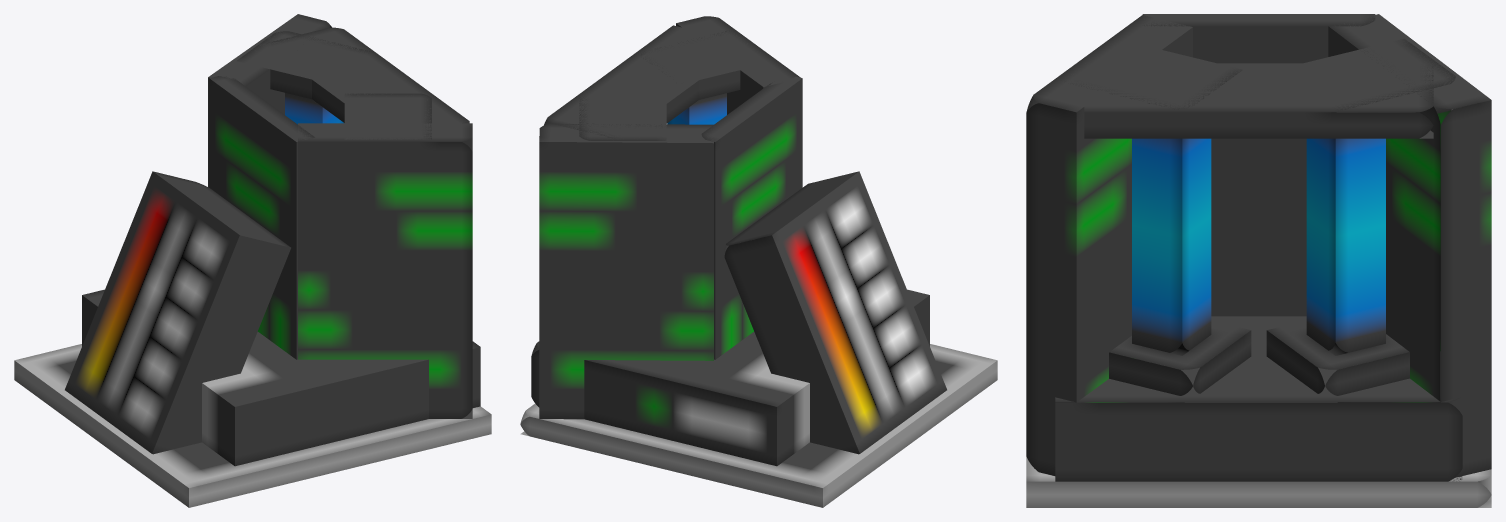
Rendered from nuclear_boiler.obj.
3 renders of one model, left to right at view 1: azimuth 30°, elevation 25°; view 2: azimuth 150°, elevation 25°; view 3: azimuth 270°, elevation 25°, orthographic. The views are drawn at different scales.
Visible parts, largest first — view 1: RadShieldPlate3, ThermalDisplay, Support.001, Base, RadShieldPlate1, TopSupport3, TopSupport2, TopSupport1, RadShieldPlate2, FuelBar2Rotates; view 2: RadShieldPlate2, ThermalDisplay, Support.001, Base, RadShieldPlate1, TopSupport3, RadShieldPlate3, TopSupport2, TopSupport1, FuelBar1Rotates; view 3: Support.001, RadShieldPlate3, RadShieldPlate2, RadShieldPlate1, TopSupport3, FuelBar1Rotates, FuelBar2Rotates, Base, TopSupport2, FuelBarSupport2Rotates, FuelBarSupport1Rotates, TopSupport1.
Boxes of the visible parts, box(x1,y1,x2,y2) form: RadShieldPlate3: box(298, 123, 472, 418); ThermalDisplay: box(65, 171, 290, 454); Support.001: box(82, 289, 480, 466); Base: box(14, 344, 491, 507); RadShieldPlate1: box(209, 76, 314, 359); TopSupport3: box(263, 27, 469, 138); TopSupport2: box(237, 31, 373, 99); TopSupport1: box(344, 93, 431, 139); RadShieldPlate2: box(208, 14, 331, 187); FuelBar2Rotates: box(285, 93, 343, 124); RadShieldPlate2: box(539, 123, 714, 419); ThermalDisplay: box(724, 171, 946, 454); Support.001: box(531, 289, 929, 466); Base: box(520, 344, 997, 507); RadShieldPlate1: box(701, 76, 802, 359); TopSupport3: box(544, 25, 747, 139); RadShieldPlate3: box(676, 16, 800, 114); TopSupport2: box(579, 95, 666, 140); TopSupport1: box(641, 30, 757, 99); FuelBar1Rotates: box(667, 93, 726, 124); Support.001: box(1055, 316, 1462, 481); RadShieldPlate3: box(1026, 15, 1192, 475); RadShieldPlate2: box(1328, 14, 1491, 477); RadShieldPlate1: box(1142, 14, 1375, 316); TopSupport3: box(1084, 63, 1433, 138); FuelBar1Rotates: box(1132, 138, 1211, 355); FuelBar2Rotates: box(1306, 138, 1385, 355); Base: box(1026, 457, 1491, 507); TopSupport2: box(1279, 38, 1455, 113); FuelBarSupport2Rotates: box(1266, 320, 1409, 395); FuelBarSupport1Rotates: box(1109, 320, 1251, 395); TopSupport1: box(1061, 41, 1242, 109).
Bounding box in the file's own units: 1 × 0.9523 × 1.
